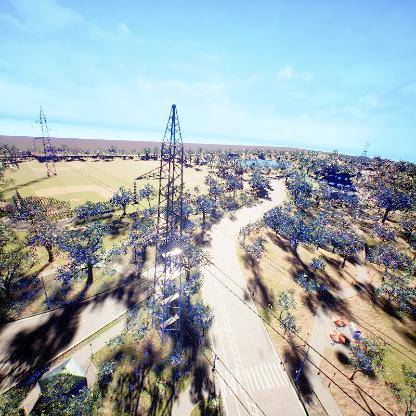tower: (130, 104, 201, 344)
